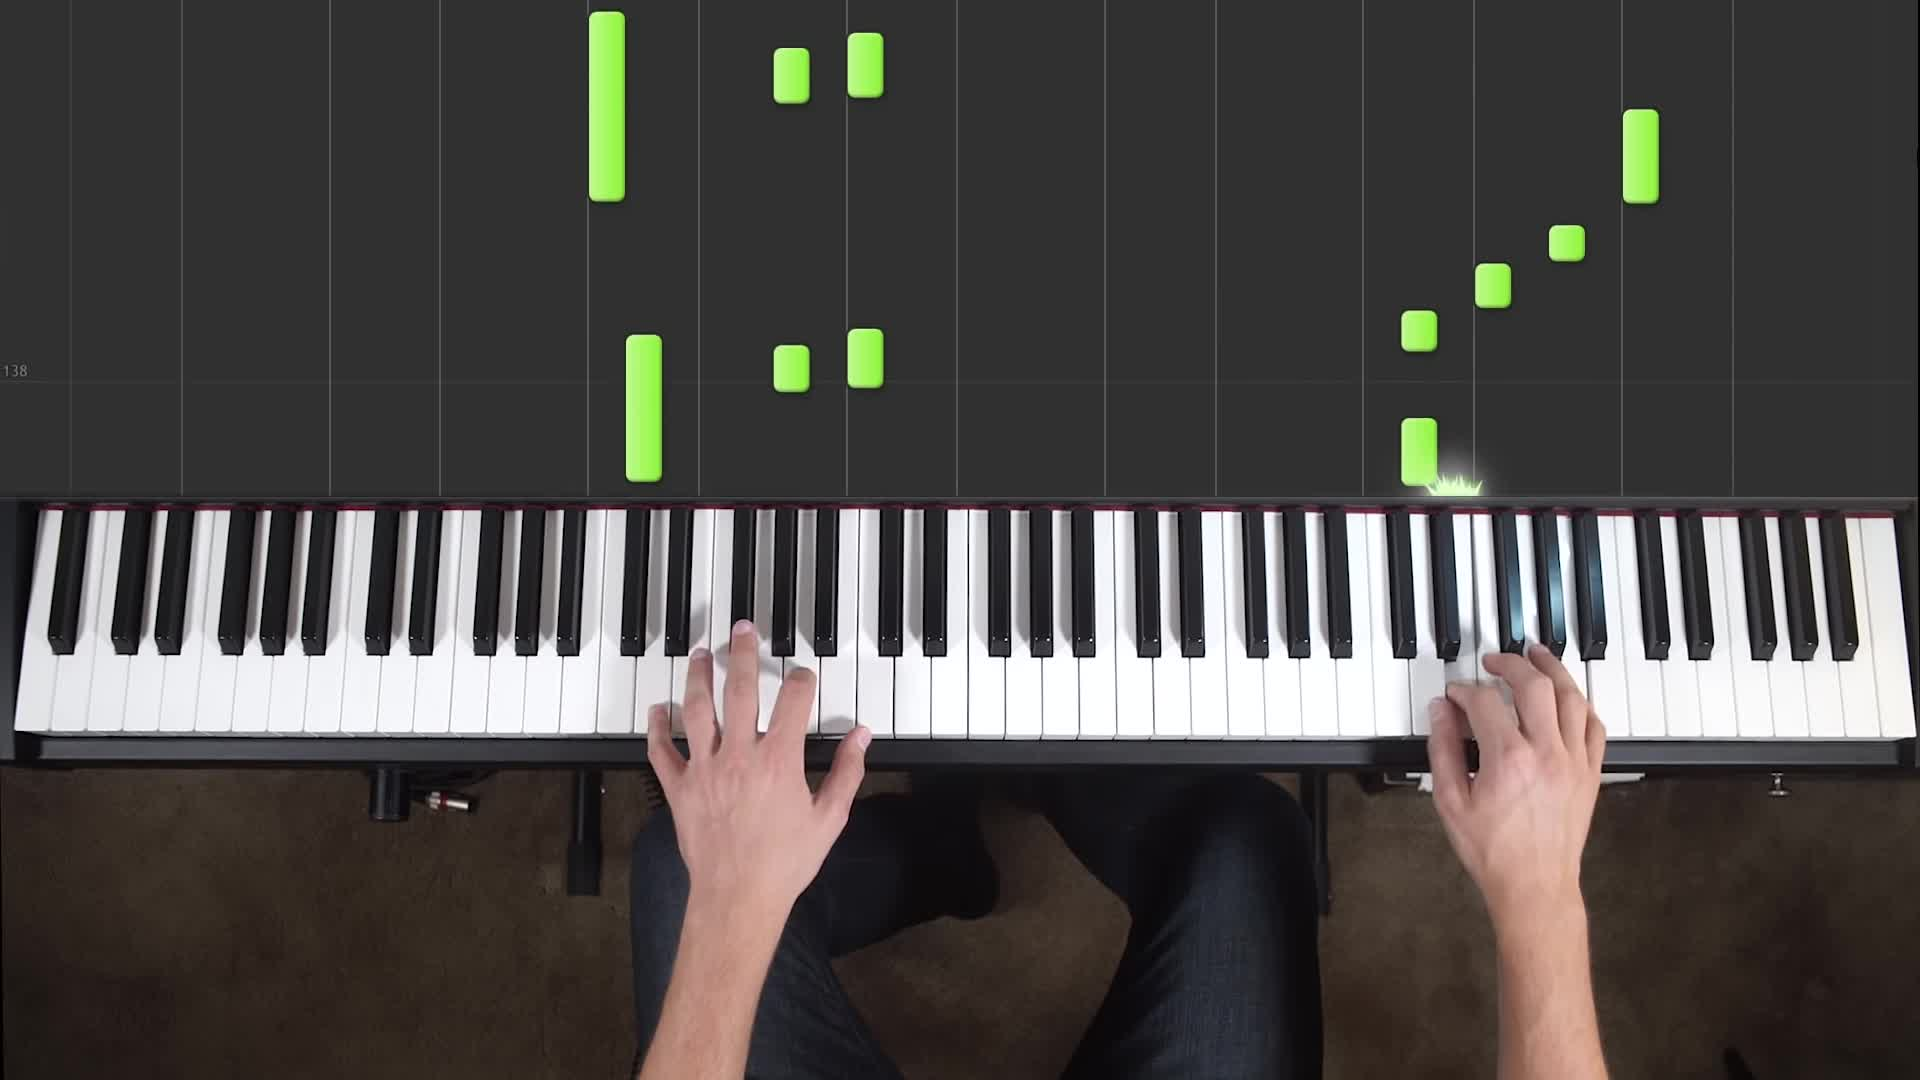left: (646, 617, 872, 876)
right: (1427, 641, 1607, 891)
